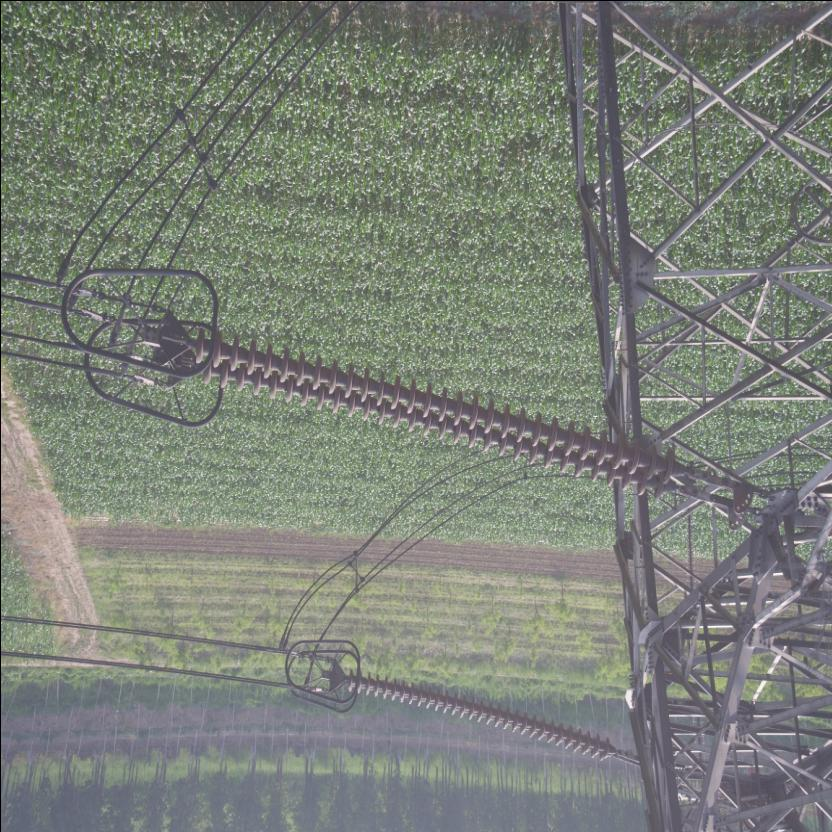insulator: (173, 322, 714, 504), (335, 670, 632, 767)
